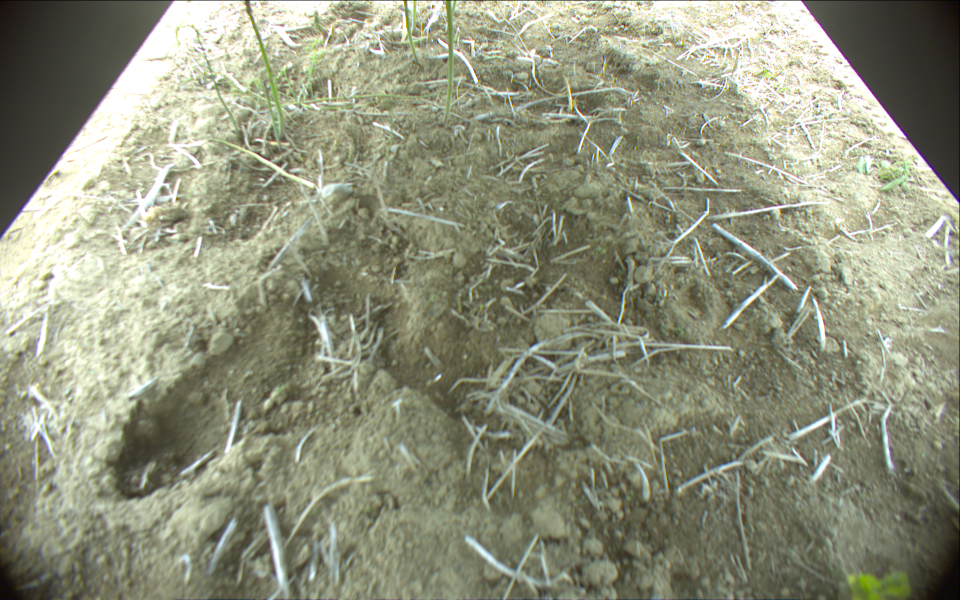aspa: (176, 25, 242, 137), (245, 1, 289, 140), (258, 77, 286, 151), (443, 1, 455, 122), (404, 1, 421, 62), (410, 1, 418, 37)
